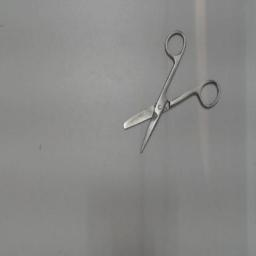Dressing Scissors: (120, 24, 224, 160)
